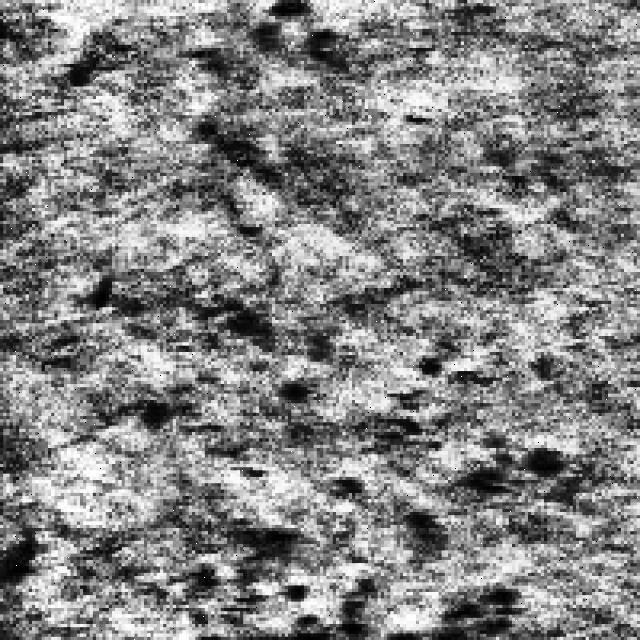Crazing: (192, 307, 522, 634), (371, 349, 563, 502)
